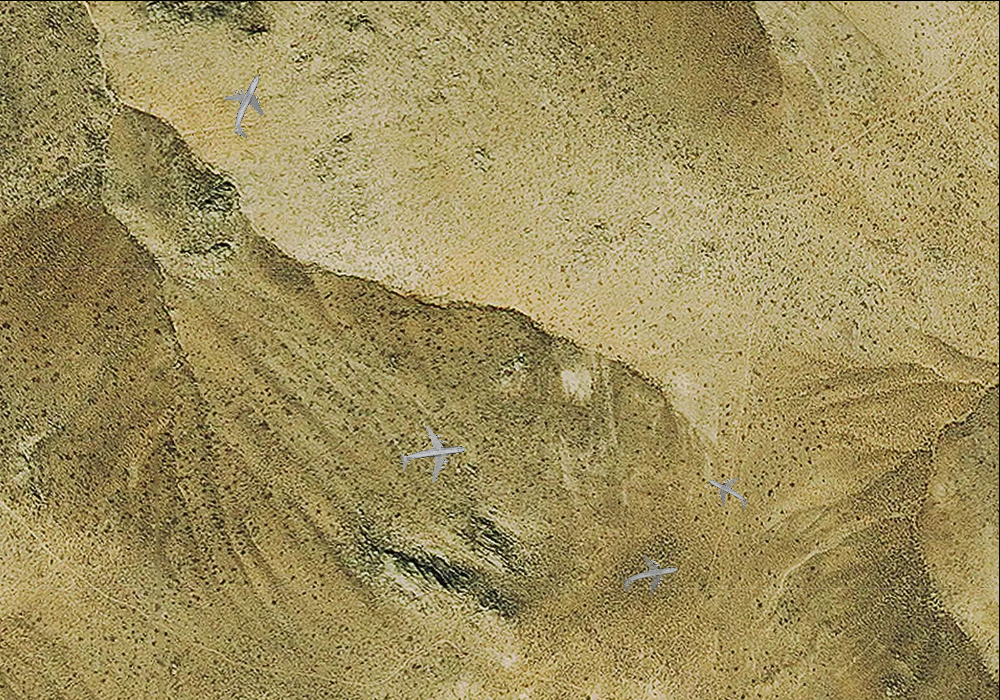plane: (209, 64, 286, 145), (395, 419, 470, 491), (617, 547, 683, 607), (698, 464, 758, 521)
